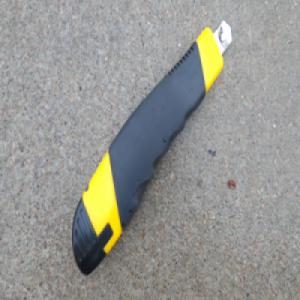Cutter: (70, 16, 233, 278)
